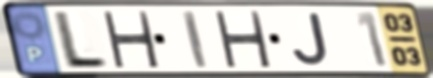1: (354, 9, 390, 69)
H: (210, 9, 273, 69), (98, 9, 161, 69)
I: (179, 8, 211, 70)
J: (289, 11, 332, 68)
L: (52, 8, 110, 71)
